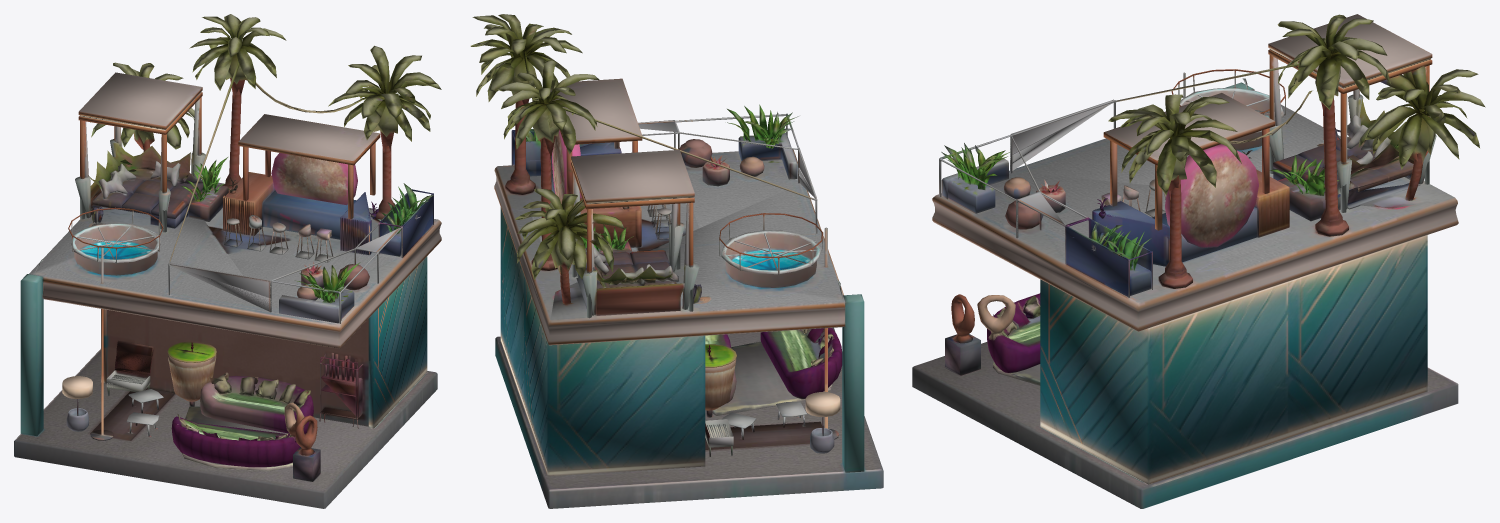
Rendered from tier5-lv25.glb.
The picture shows the model from 3 angles, left to right: view 1: azimuth 30°, elevation 25°; view 2: azimuth 150°, elevation 25°; view 3: azimuth 270°, elevation 25°; orthographic projection. The views are drawn at different scales.
Visible parts, largest first — view 1: tripo_node_b757d5e6-a284-4a43-9e56-eda77e456efa; view 2: tripo_node_b757d5e6-a284-4a43-9e56-eda77e456efa; view 3: tripo_node_b757d5e6-a284-4a43-9e56-eda77e456efa.
Part boxes in pixels (bbox=[...]): tripo_node_b757d5e6-a284-4a43-9e56-eda77e456efa: bbox=[14, 14, 441, 508]; tripo_node_b757d5e6-a284-4a43-9e56-eda77e456efa: bbox=[470, 14, 883, 508]; tripo_node_b757d5e6-a284-4a43-9e56-eda77e456efa: bbox=[912, 14, 1485, 508].
Size of the model in its own units: 1.21 by 0.998 by 1.26.
1 material, 1 textured.
